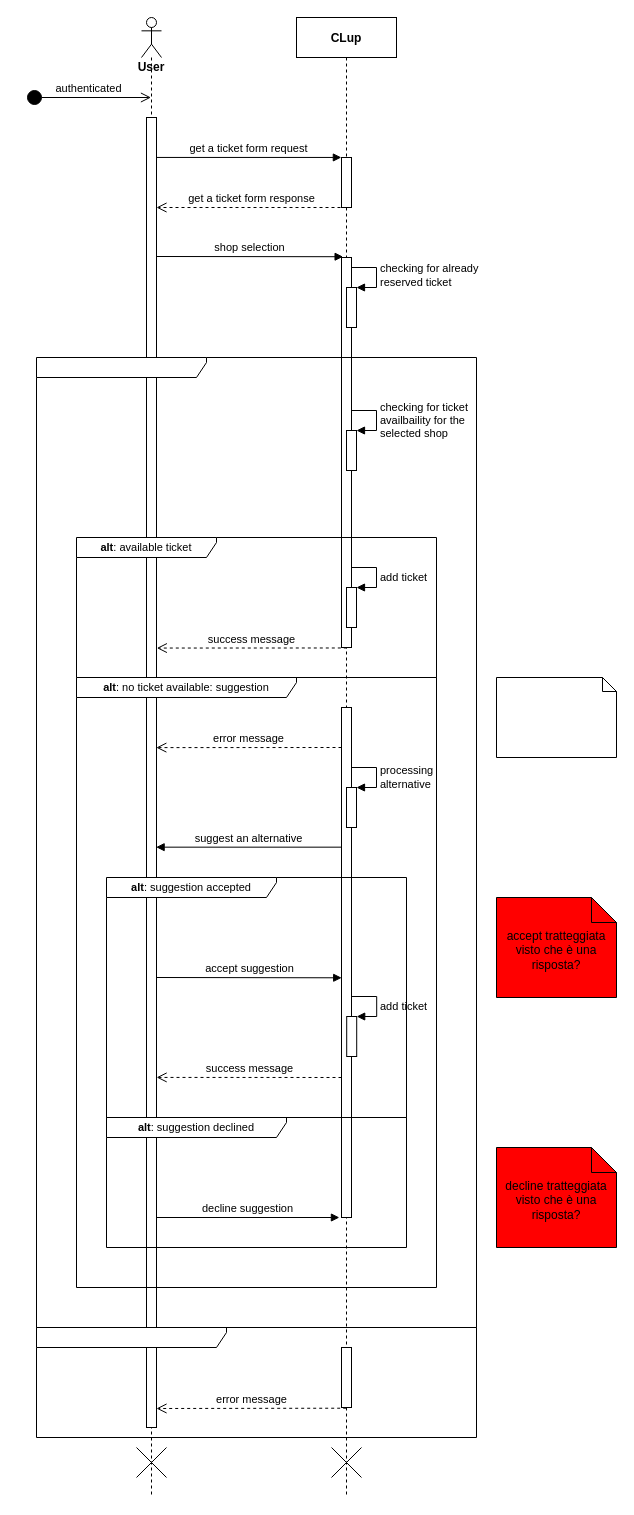
Image size: 634x1515. Some labels were removed from this diagram. Here are the shapes that lost their labels. From the top down, the box of each, then its label:
(496, 676, 616, 758): CLup continues some operation and then notifies that there are no ticket left
(36, 356, 476, 1328): alt : no ticket already taken
(36, 1326, 476, 1438): alt : ticket already taken
